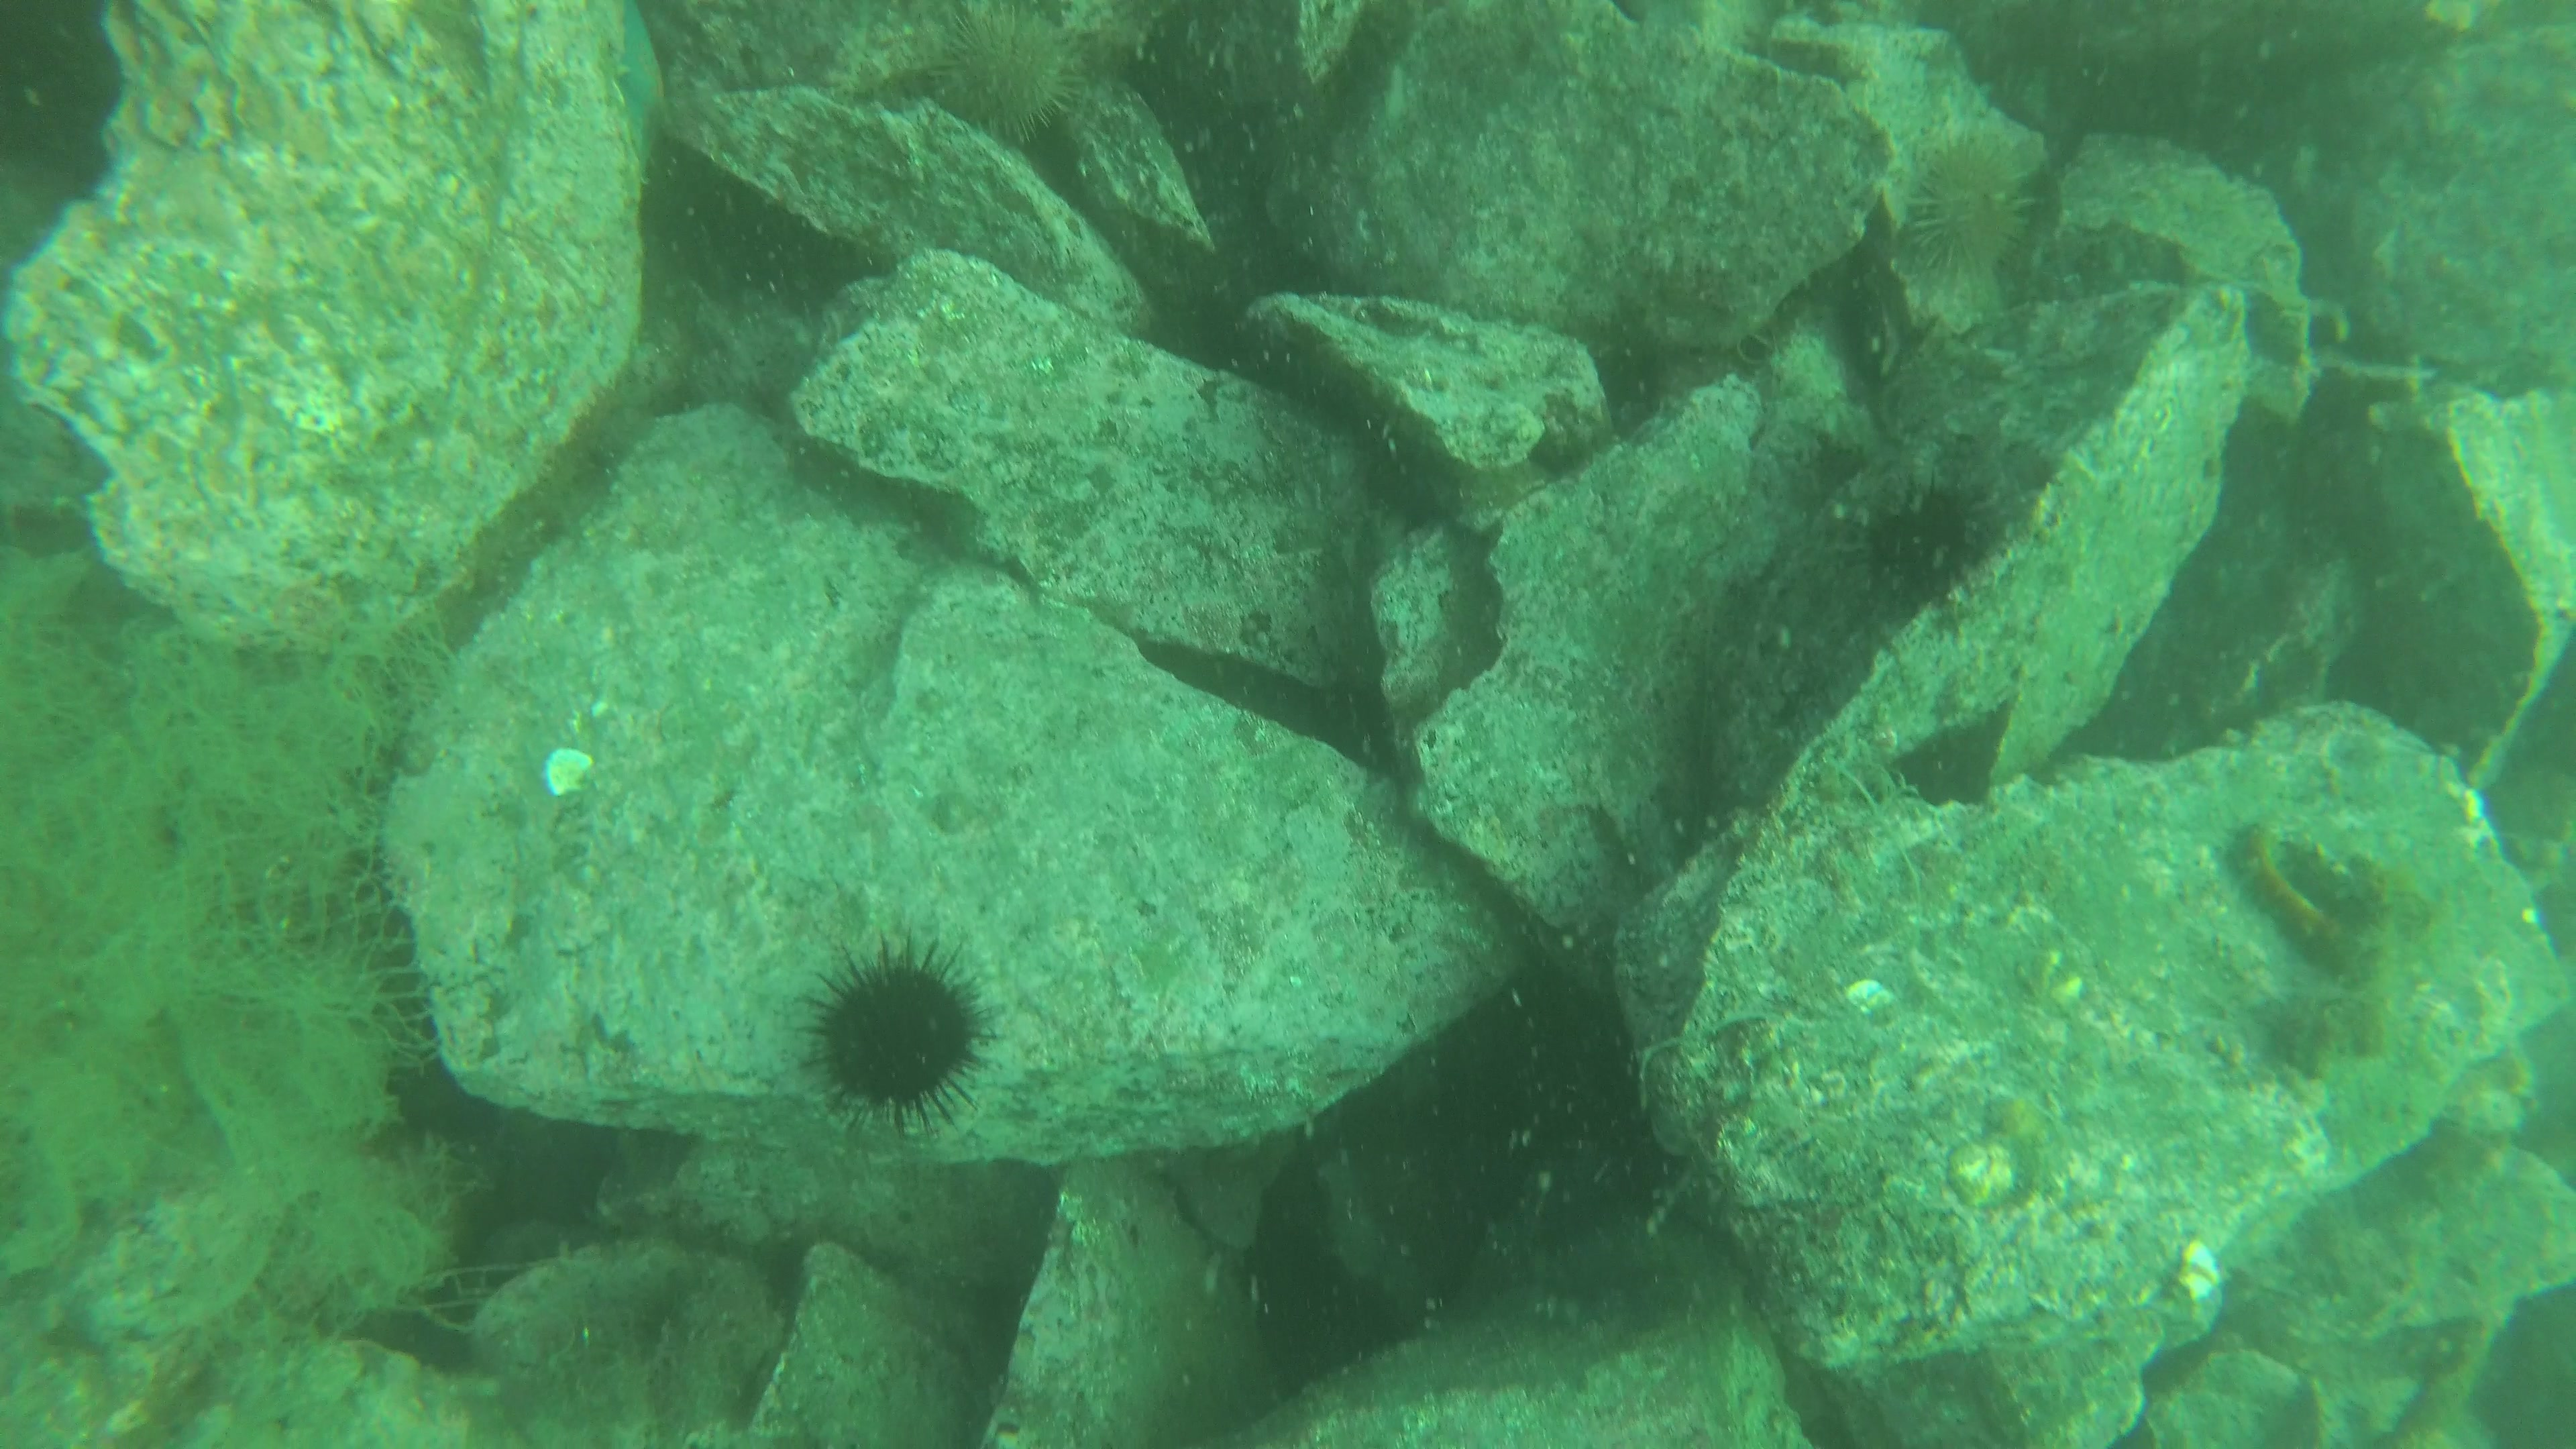echinus: (810, 955, 977, 1123), (943, 4, 1076, 143), (1865, 479, 1982, 602)
starfish: (609, 2, 667, 165)
